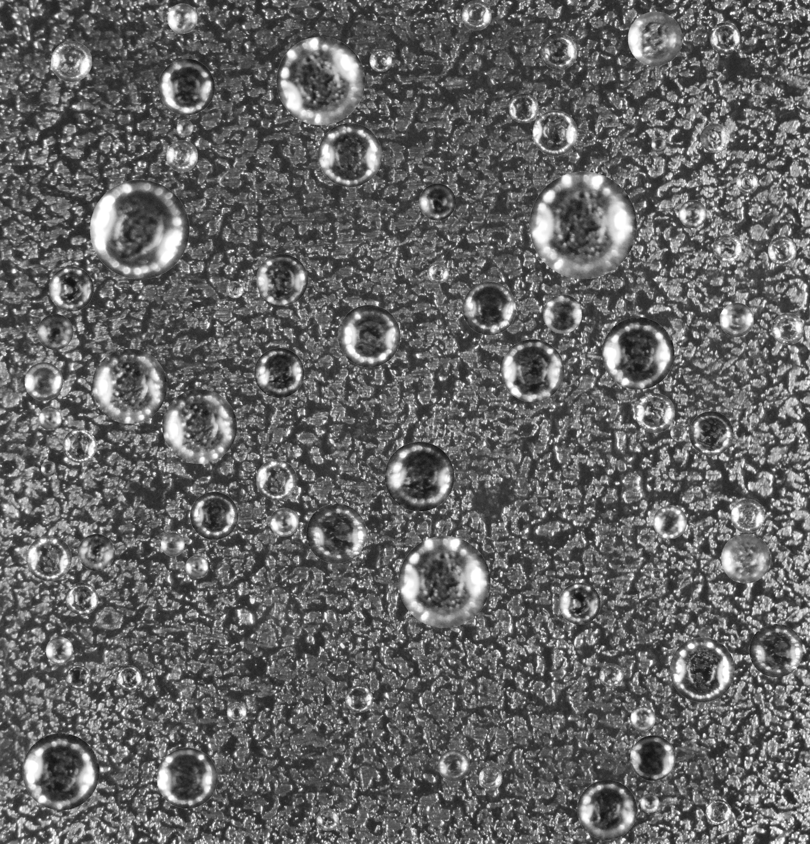Bubble: (529, 171, 636, 278), (90, 179, 189, 279), (398, 536, 490, 627), (276, 36, 364, 125), (22, 733, 99, 810), (92, 348, 166, 423), (162, 389, 236, 463), (602, 317, 674, 389), (384, 441, 454, 511), (670, 637, 734, 702), (318, 123, 381, 186), (501, 339, 564, 402), (338, 305, 400, 367), (156, 748, 217, 808), (306, 503, 366, 563), (577, 780, 637, 839), (158, 58, 214, 115), (462, 281, 516, 335), (628, 11, 682, 65), (749, 624, 802, 677), (256, 254, 307, 305), (254, 348, 304, 397), (721, 534, 770, 583), (190, 491, 238, 539), (26, 535, 71, 581), (532, 110, 577, 155), (48, 266, 93, 311), (630, 735, 675, 780), (689, 411, 733, 455), (558, 582, 600, 624), (256, 459, 296, 500), (51, 41, 91, 81), (635, 393, 675, 432), (543, 294, 582, 333), (24, 362, 62, 400), (77, 534, 114, 570), (540, 33, 577, 69), (419, 183, 455, 220), (37, 314, 73, 349), (62, 428, 96, 462), (719, 302, 753, 336), (730, 499, 764, 533), (65, 582, 98, 615), (653, 505, 686, 538), (771, 312, 804, 345), (438, 749, 469, 781), (166, 140, 197, 171), (709, 22, 740, 52), (508, 93, 538, 123), (461, 0, 491, 30), (167, 3, 197, 33), (700, 123, 729, 152), (269, 508, 298, 536), (713, 233, 741, 262), (768, 236, 796, 265), (345, 685, 373, 713), (45, 637, 73, 664), (679, 200, 706, 227), (705, 799, 731, 825), (630, 706, 655, 731), (116, 665, 141, 690), (65, 665, 90, 689), (599, 663, 623, 687), (160, 532, 184, 556), (38, 406, 61, 430), (185, 555, 208, 578), (479, 766, 502, 789), (369, 49, 392, 71), (316, 808, 338, 831), (736, 171, 758, 193), (427, 262, 448, 283), (226, 702, 246, 722), (640, 793, 659, 812), (670, 424, 687, 441), (176, 119, 193, 136), (226, 281, 243, 298), (40, 461, 55, 476), (651, 137, 666, 152), (751, 80, 765, 95), (650, 568, 663, 581)
